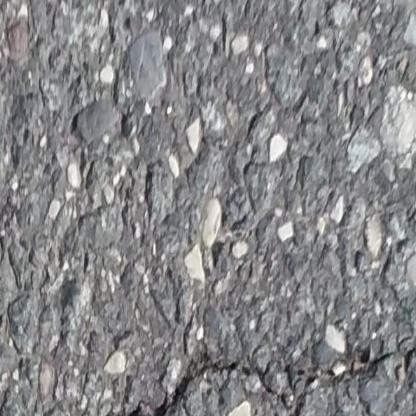Cracks: (71, 359, 277, 416), (306, 343, 397, 416), (0, 387, 14, 416)
